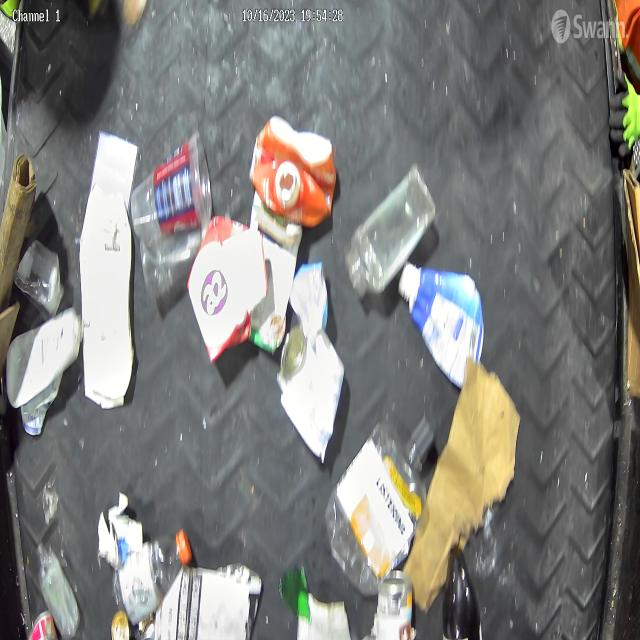can: (274, 328, 346, 451), (15, 234, 66, 321), (372, 567, 415, 640)
non_white_jug: (247, 103, 338, 239), (397, 258, 481, 396)
plastic_bottle: (109, 519, 191, 624)
